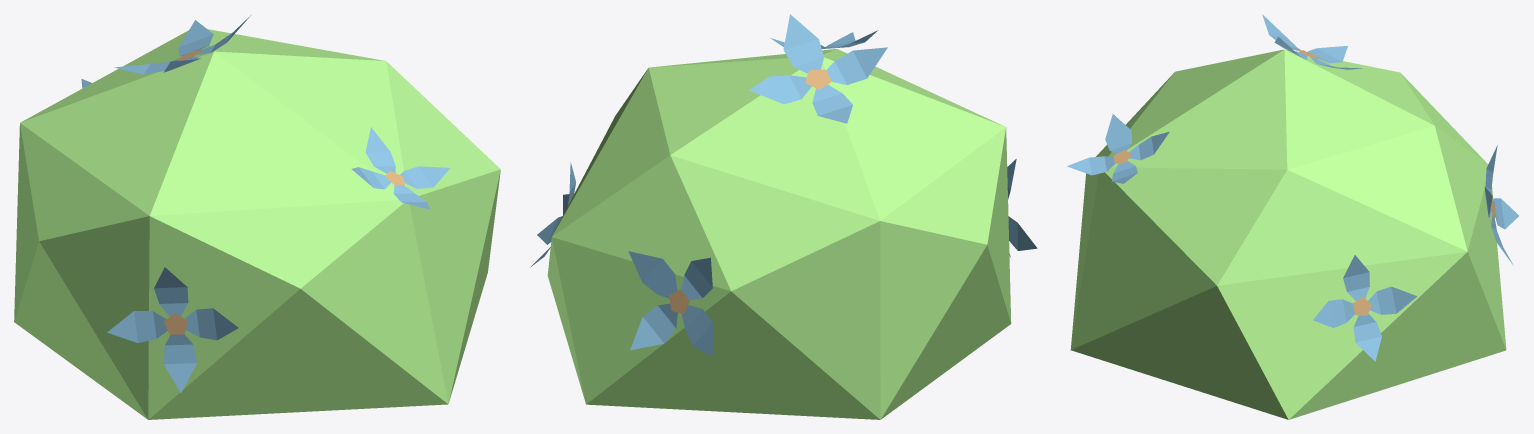
The model's file is FlowerBush_h_m_03.fbx.
The picture shows the model from 3 angles, left to right: view 1: azimuth 30°, elevation 25°; view 2: azimuth 150°, elevation 25°; view 3: azimuth 270°, elevation 25°; orthographic projection. The views are drawn at different scales.
Visible parts, largest first — view 1: FlowerBush_h_m_03; view 2: FlowerBush_h_m_03; view 3: FlowerBush_h_m_03.
Part boxes in pixels (left/top/right/bottom): FlowerBush_h_m_03: left=14, top=15, right=500, bottom=419; FlowerBush_h_m_03: left=530, top=14, right=1037, bottom=419; FlowerBush_h_m_03: left=1067, top=14, right=1519, bottom=419.
Size of the model in its own units: 131 by 90.02 by 132.
